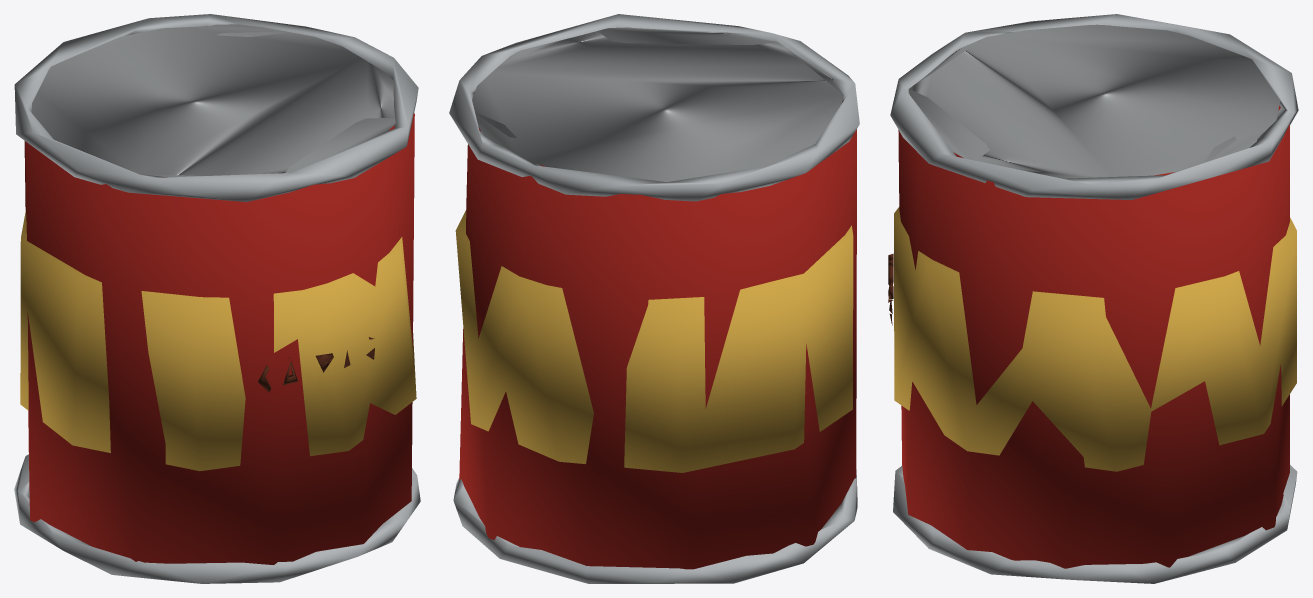
The model's file is lon_3_caphe.glb.
3 views of the same model, side by side, from view 1: azimuth 30°, elevation 25°; view 2: azimuth 150°, elevation 25°; view 3: azimuth 270°, elevation 25° (orthographic).
Parts seen in each view (by area): view 1: lon_3_caphe; view 2: lon_3_caphe; view 3: lon_3_caphe.
Part boxes in pixels (x1,y1,x2,y2): lon_3_caphe: [14, 14, 420, 583]; lon_3_caphe: [449, 14, 859, 583]; lon_3_caphe: [888, 14, 1298, 583].
Bounding box in the file's own units: 0.1557 × 0.1709 × 0.1564.
